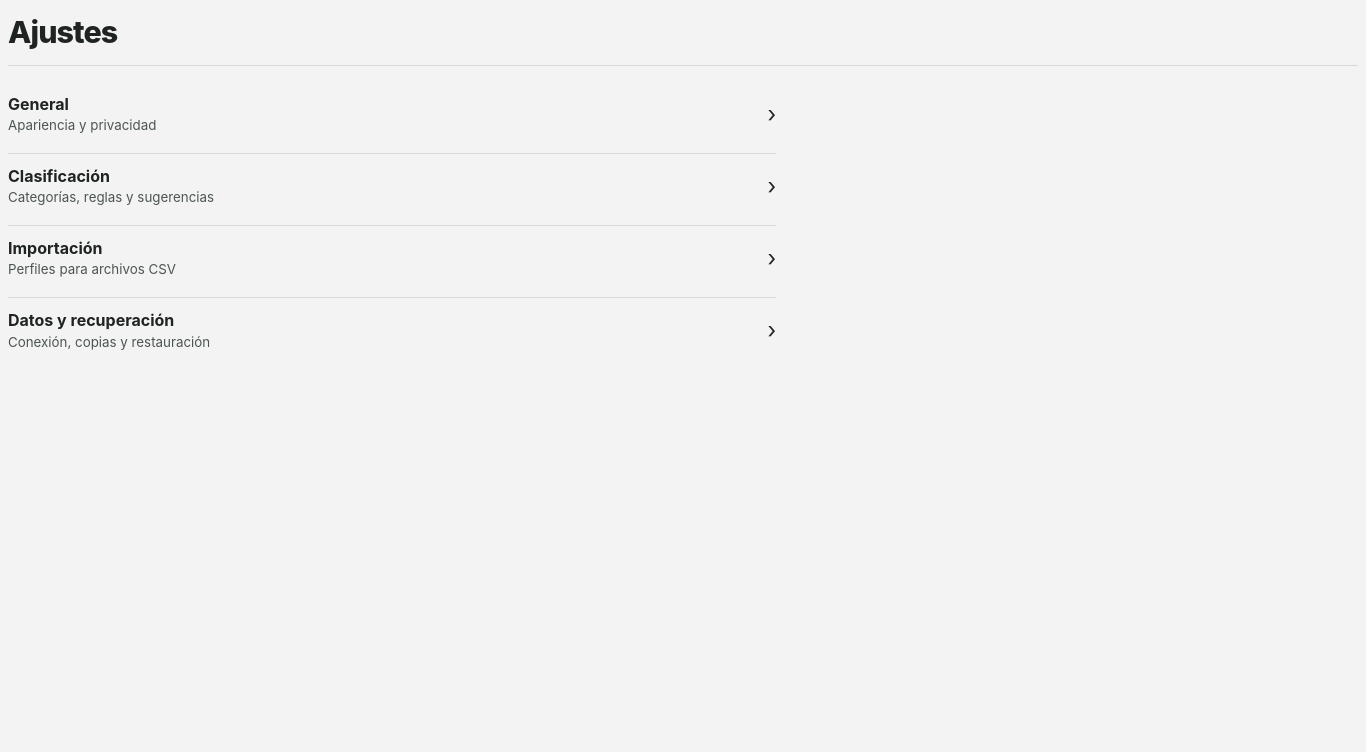
it: SettingsView › mantiene el borrador de categoría al alternar entre vistas de Clasificación
The image size is (1366, 752).
Step 1. Click the button "Clasificación Categorías, reglas y sugerencias ›" → (59, 176), box [8,153,776,217]
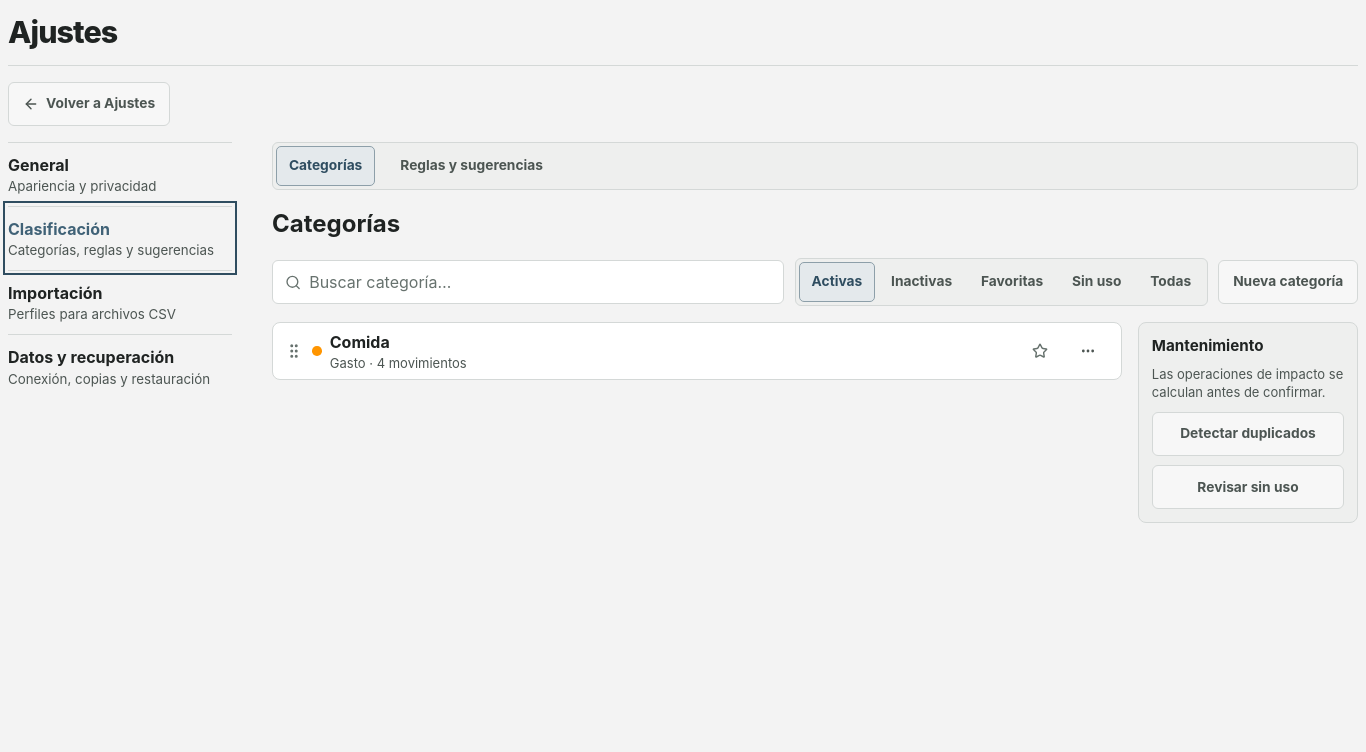
Step 2. Click the button "Nueva categoría" → (1288, 282), box [1218,260,1358,304]
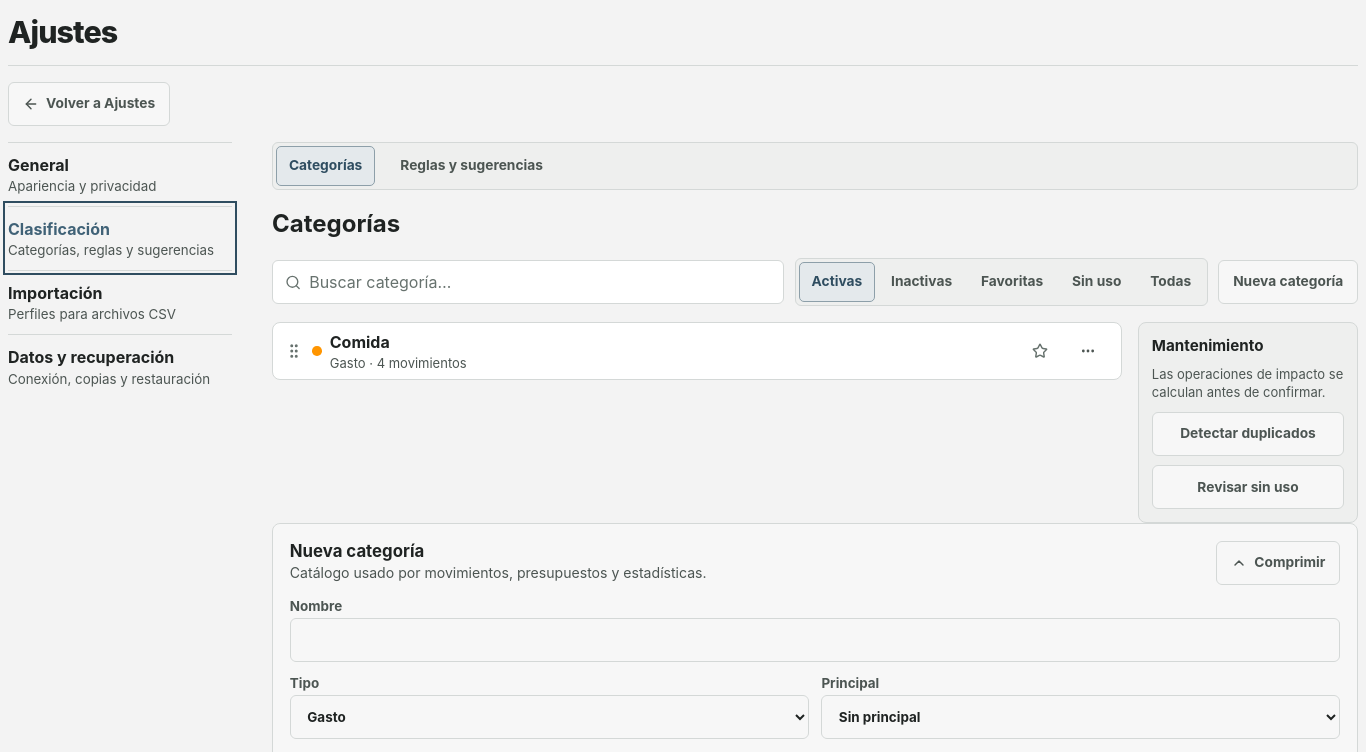
Step 3. Type "Casa nueva" into the field labelled "Nombre" → (815, 640), box [290,618,1340,662]
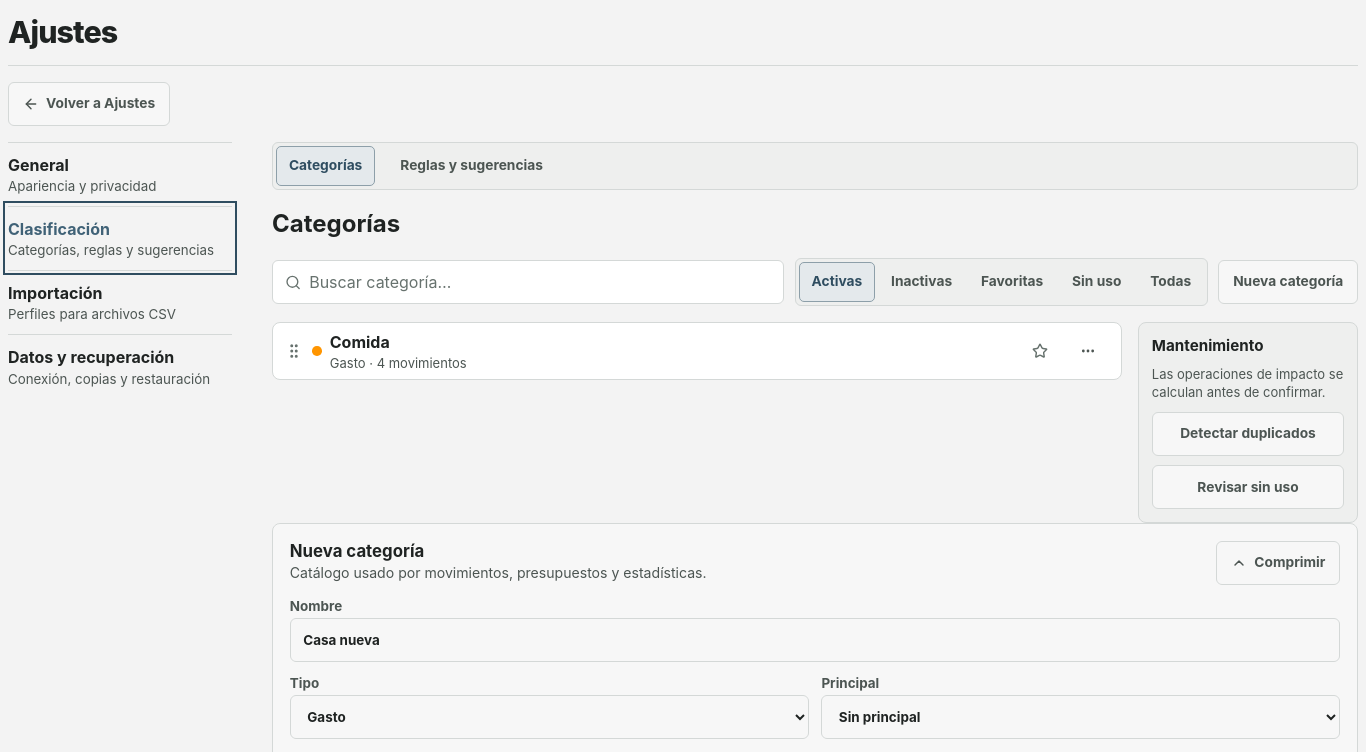
Step 4. Click the button "Reglas y sugerencias" → (472, 166), box [387,146,556,186]
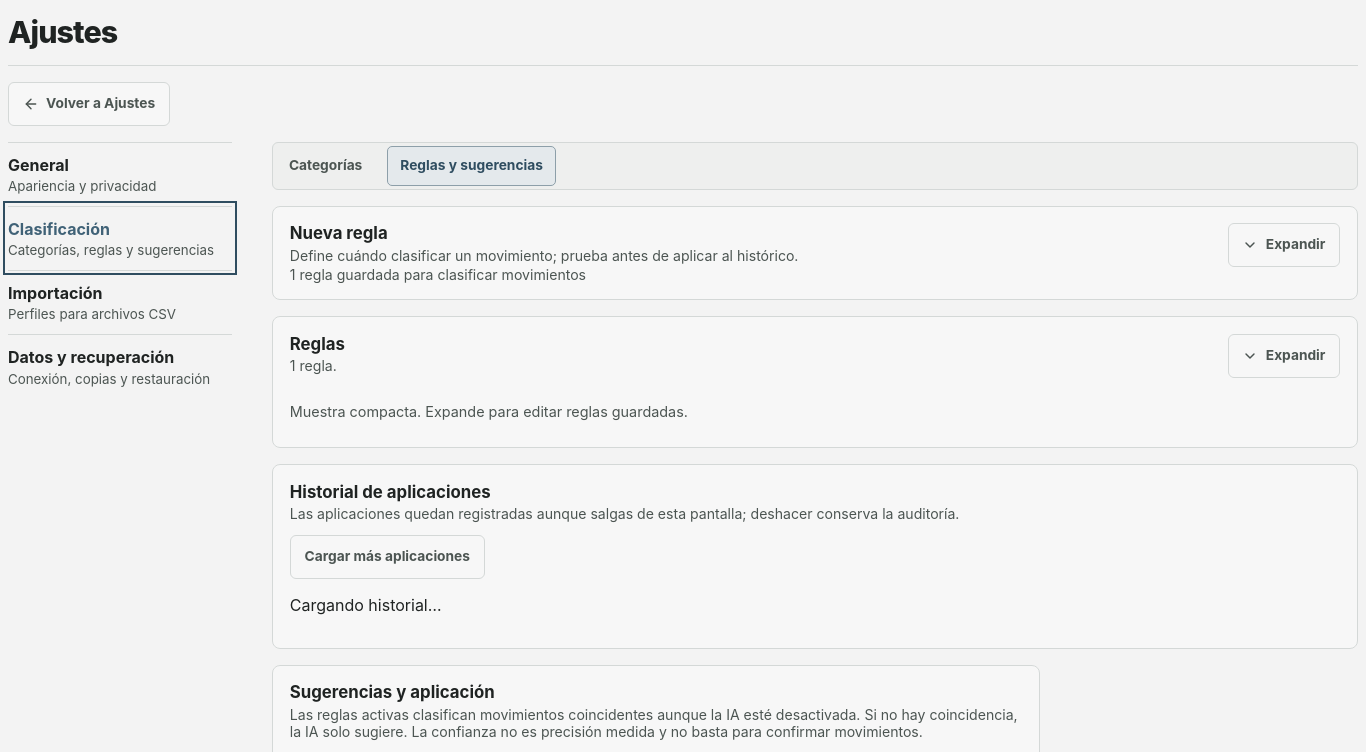
Step 5. Click the button "Categorías" → (326, 166), box [276,146,375,186]
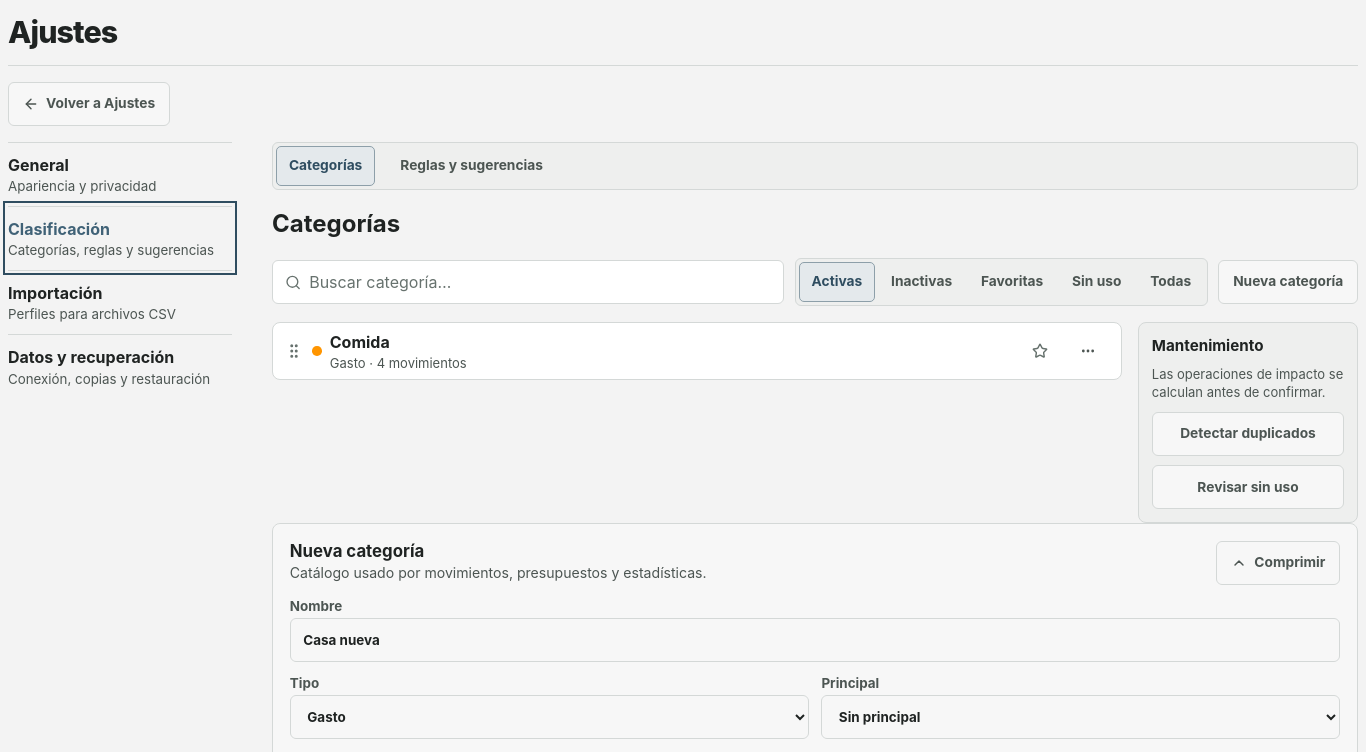
Expected: the number of elements named "Árbol de categorías" is 1, [272,322,1122,380]
